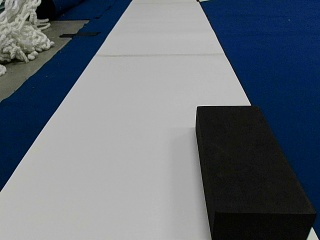block: (196, 105, 315, 238)
